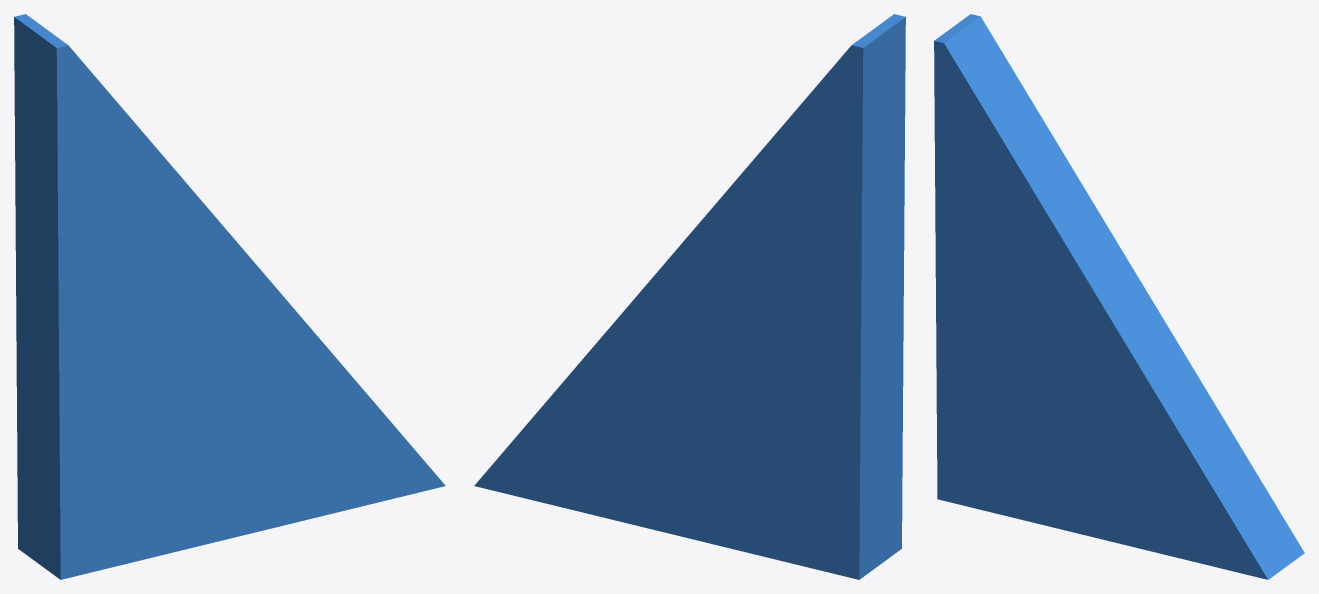
File: Collision_Roof_Front_Brick4_Half_R.fbx
The picture shows the model from 3 angles, left to right: view 1: azimuth 30°, elevation 25°; view 2: azimuth 150°, elevation 25°; view 3: azimuth 330°, elevation 25°; orthographic projection. The views are drawn at different scales.
Visible parts, largest first — view 1: UCX_Roof_Front_Brick4_Half_R_1; view 2: UCX_Roof_Front_Brick4_Half_R_1; view 3: UCX_Roof_Front_Brick4_Half_R_1.
Boxes of the visible parts, <box> form: UCX_Roof_Front_Brick4_Half_R_1: <box>14,14,445,579</box>; UCX_Roof_Front_Brick4_Half_R_1: <box>474,14,905,579</box>; UCX_Roof_Front_Brick4_Half_R_1: <box>934,14,1304,579</box>.
Size of the model in its own units: 242 by 316 by 45.89.
